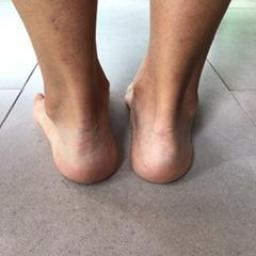Back View -Both Feet-: (23, 42, 226, 202)
